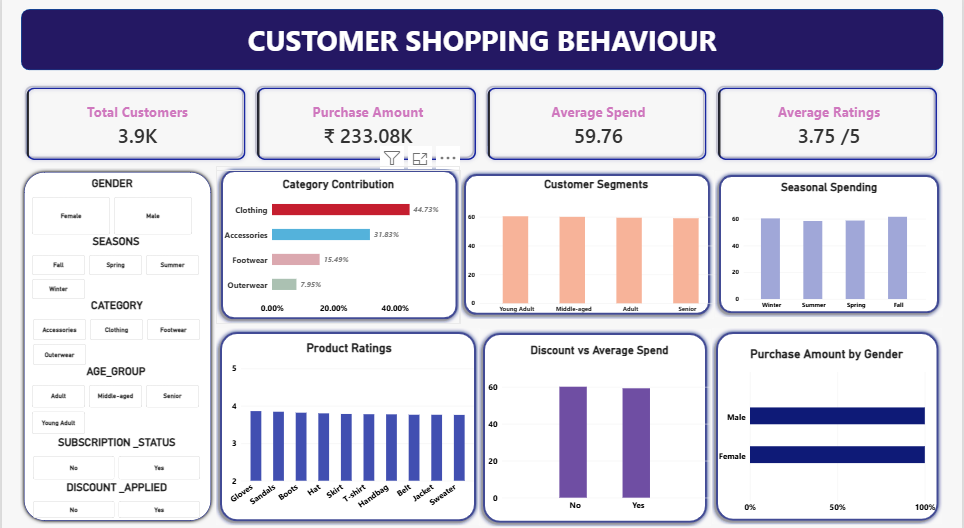

The dashboard page shown, as its layout file describes it:
{"tool":"powerbi","page":{"name":"Page 1","canvas":[1920,1080],"ordinal":0},"visuals":[{"type":"cardVisual","fields":{"Data":["customer.Total Customers","customer.Purchase Amount","customer.Average Spend","customer.Average Ratings"]},"box":[37.5,172.5,1845,167.5],"z":0},{"type":"shape","box":[953.3,666.7,463.8,395.4],"z":0,"group":"g5"},{"type":"shape","box":[37.5,25,1845,122.5],"z":1000},{"type":"clusteredColumnChart","title":"Discount vs Average Spend","fields":{"Category":["customer.discount_applied"],"Y":["customer.Average Spend"]},"box":[955.6,680.9,478,369.4],"z":1000,"group":"g5"},{"type":"group","id":"g1","title":"Group 1","box":[916.9,348.7,544.7,307.6],"z":2000},{"type":"group","id":"g2","title":"Group 2","box":[427.1,340.9,489.8,315.4],"z":3000},{"type":"group","id":"g3","title":"Group 3","box":[1426.7,350,456.7,296.7],"z":4000},{"type":"shape","box":[427.1,664.2,528.1,394.5],"z":4000,"group":"g4"},{"type":"shape","box":[1420.5,663.3,460.9,393.3],"z":5000,"group":"g6"},{"type":"group","id":"g4","title":"Group 4","box":[427.1,664.2,529,393.8],"z":5000},{"type":"clusteredColumnChart","title":"Product Ratings","fields":{"Category":["customer.item_purchased"],"Y":["customer.Average Ratings"]},"box":[427.1,677,532.4,380.5],"z":5000,"group":"g4"},{"type":"shape","box":[429.3,340.9,489,314.7],"z":6000,"group":"g2"},{"type":"group","id":"g5","title":"Group 5","box":[953.3,666.7,480,396.7],"z":6000},{"type":"shape","box":[36.7,343.3,390,713.3],"z":7000,"group":"g7"},{"type":"shape","box":[916.9,349.4,507.9,297.7],"z":8000,"group":"g1"},{"type":"advancedSlicerVisual","title":"GENDER","fields":{"Values":["customer.gender"]},"box":[61.1,361.2,320.6,115.4],"z":8000,"group":"g7"},{"type":"hundredPercentStackedBarChart","title":"Purchase Amount by Gender","fields":{"Category":["customer.gender"],"Y":["customer.Purchase Amount"]},"box":[1416.7,686.3,466.7,366.1],"z":8000,"group":"g6"},{"type":"shape","box":[1426.7,350,456.2,292.5],"z":9000,"group":"g3"},{"type":"advancedSlicerVisual","title":"AGE_GROUP","fields":{"Values":["customer.age_group"]},"box":[61.1,738.2,335.6,138.1],"z":9000,"group":"g7"},{"type":"clusteredBarChart","title":"Category Contribution","fields":{"Category":["customer.category"],"Y":["Divide(customer.Purchase Amount, ScopedEval(customer.Purchase Amount, []))"]},"box":[427.1,348.6,490,307.5],"z":10000,"group":"g2"},{"type":"group","id":"g6","title":"Group 6","box":[1416.7,663.3,466.7,393.3],"z":10000},{"type":"advancedSlicerVisual","title":"CATEGORY","fields":{"Values":["customer.category"]},"box":[62.9,604.9,335.6,133.2],"z":10001,"group":"g7"},{"type":"advancedSlicerVisual","title":"SEASONS","fields":{"Values":["customer.season"]},"box":[61.1,476.5,335.6,128.4],"z":10002,"group":"g7"},{"type":"advancedSlicerVisual","title":"SUBSCRIPTION _STATUS","fields":{"Values":["customer.subscription_status"]},"box":[62.4,879.3,335,87.9],"z":10003,"group":"g7"},{"type":"advancedSlicerVisual","title":"DISCOUNT _APPLIED","fields":{"Values":["customer.discount_applied"]},"box":[62.4,969.1,335,74.5],"z":10004,"group":"g7"},{"type":"group","id":"g7","title":"Group 7","box":[36.7,343.3,390,713.3],"z":10005},{"type":"columnChart","title":"Customer Segments","fields":{"Category":["customer.age_group"],"Y":["customer.Average Spend"]},"box":[917.7,348.7,544.7,307.6],"z":12000,"group":"g1"},{"type":"clusteredColumnChart","title":"Seasonal Spending","fields":{"Y":["customer.Average Spend"],"Category":["customer.season"]},"box":[1445,353.6,420.4,293.1],"z":12006,"group":"g3"}]}

Visuals, with their boxes in screenshot pixels (x1, y1, x2, y2), scaled from the page's 1920x1080 canvas onto the 964x528 screenshot:
cardVisual - customer.Total Customers x customer.Purchase Amount: (x1=19, y1=84, x2=945, y2=166)
shape: (x1=479, y1=326, x2=712, y2=519)
shape: (x1=19, y1=12, x2=945, y2=72)
"Discount vs Average Spend" clusteredColumnChart: (x1=480, y1=333, x2=720, y2=513)
"Group 1" group: (x1=460, y1=170, x2=734, y2=321)
"Group 2" group: (x1=214, y1=167, x2=460, y2=321)
"Group 3" group: (x1=716, y1=171, x2=946, y2=316)
shape: (x1=214, y1=325, x2=480, y2=518)
shape: (x1=713, y1=324, x2=945, y2=517)
"Group 4" group: (x1=214, y1=325, x2=480, y2=517)
"Product Ratings" clusteredColumnChart: (x1=214, y1=331, x2=482, y2=517)
shape: (x1=216, y1=167, x2=461, y2=321)
"Group 5" group: (x1=479, y1=326, x2=720, y2=520)
shape: (x1=18, y1=168, x2=214, y2=517)
shape: (x1=460, y1=171, x2=715, y2=316)
"GENDER" advancedSlicerVisual: (x1=31, y1=177, x2=192, y2=233)
"Purchase Amount by Gender" hundredPercentStackedBarChart: (x1=711, y1=336, x2=946, y2=515)
shape: (x1=716, y1=171, x2=945, y2=314)
"AGE_GROUP" advancedSlicerVisual: (x1=31, y1=361, x2=199, y2=428)
"Category Contribution" clusteredBarChart: (x1=214, y1=170, x2=460, y2=321)
"Group 6" group: (x1=711, y1=324, x2=946, y2=517)
"CATEGORY" advancedSlicerVisual: (x1=32, y1=296, x2=200, y2=361)
"SEASONS" advancedSlicerVisual: (x1=31, y1=233, x2=199, y2=296)
"SUBSCRIPTION _STATUS" advancedSlicerVisual: (x1=31, y1=430, x2=200, y2=473)
"DISCOUNT _APPLIED" advancedSlicerVisual: (x1=31, y1=474, x2=200, y2=510)
"Group 7" group: (x1=18, y1=168, x2=214, y2=517)
"Customer Segments" columnChart: (x1=461, y1=170, x2=734, y2=321)
"Seasonal Spending" clusteredColumnChart: (x1=726, y1=173, x2=937, y2=316)
